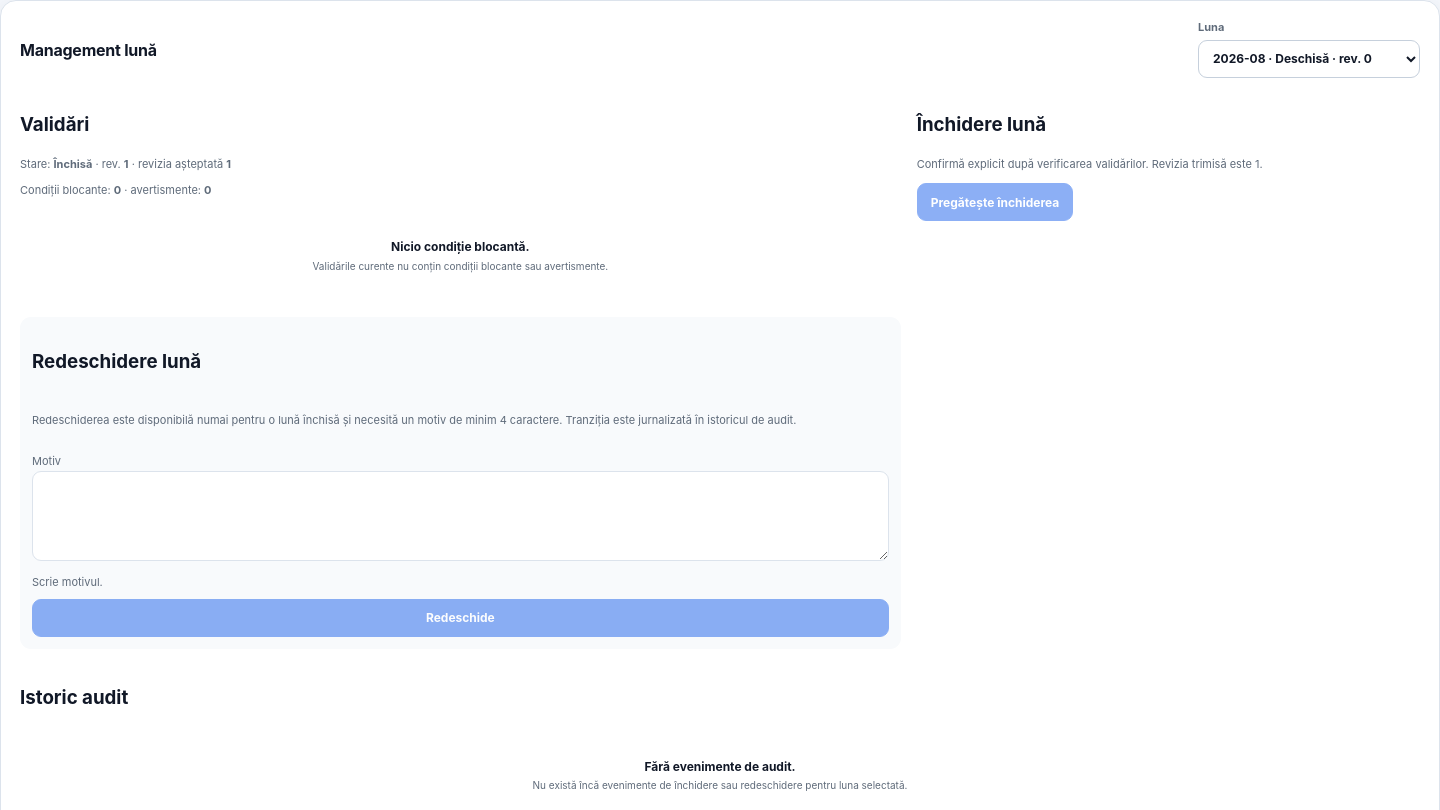
Test: Management month reopen reason validation › disables Redeschide until an enclosed month has a reason with at least 4 chars
Check: the button "Redeschide" is disabled, box [32,599,889,637]
Type "ab" into the text box.
click(460, 516); type("ab")  # box [32,471,889,561]
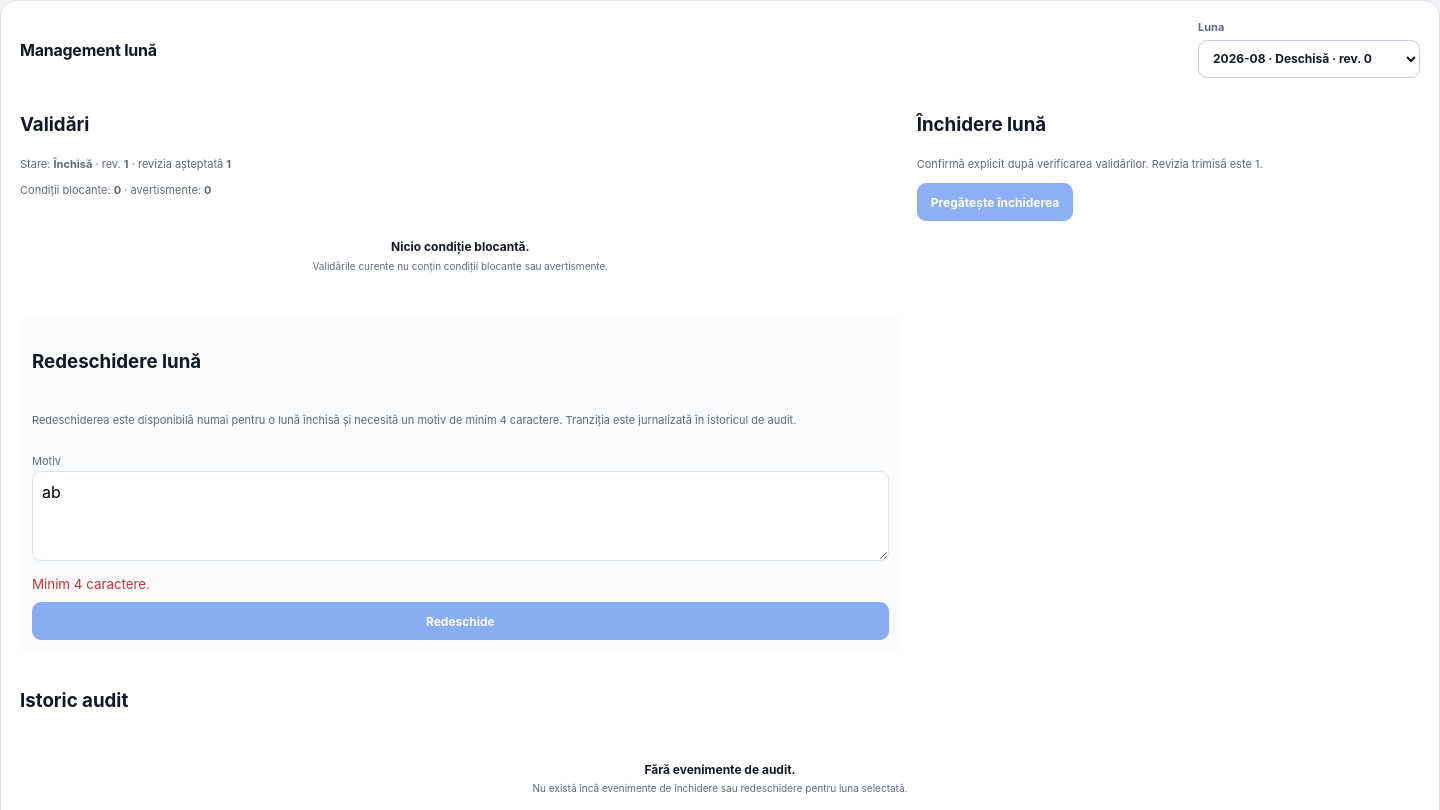
Check: the button "Redeschide" is disabled, box [32,602,889,640]
Replace the text in the text box with "abcd" at (460, 516), box [32,471,889,561]
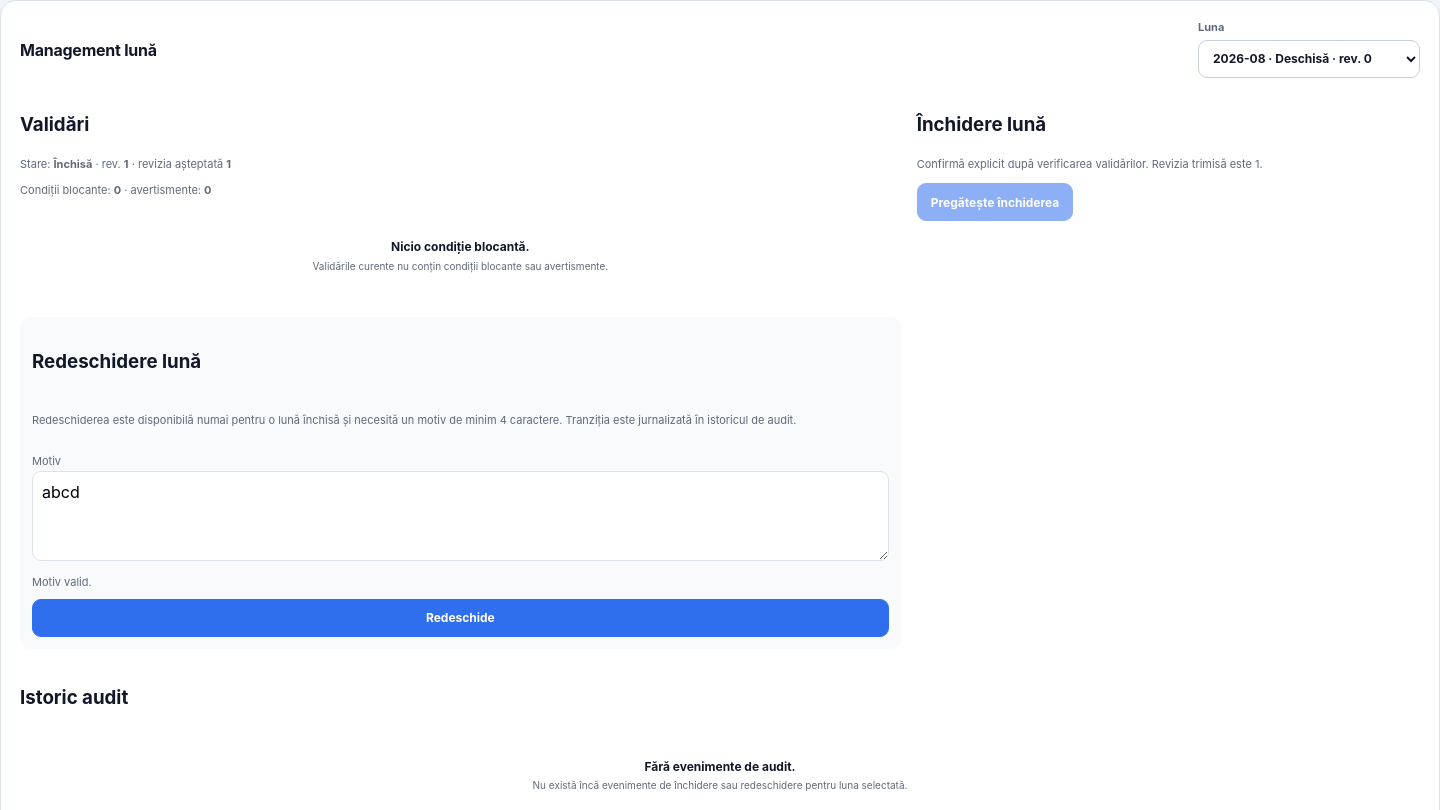
Check: the button "Redeschide" is enabled, box [32,599,889,637]
